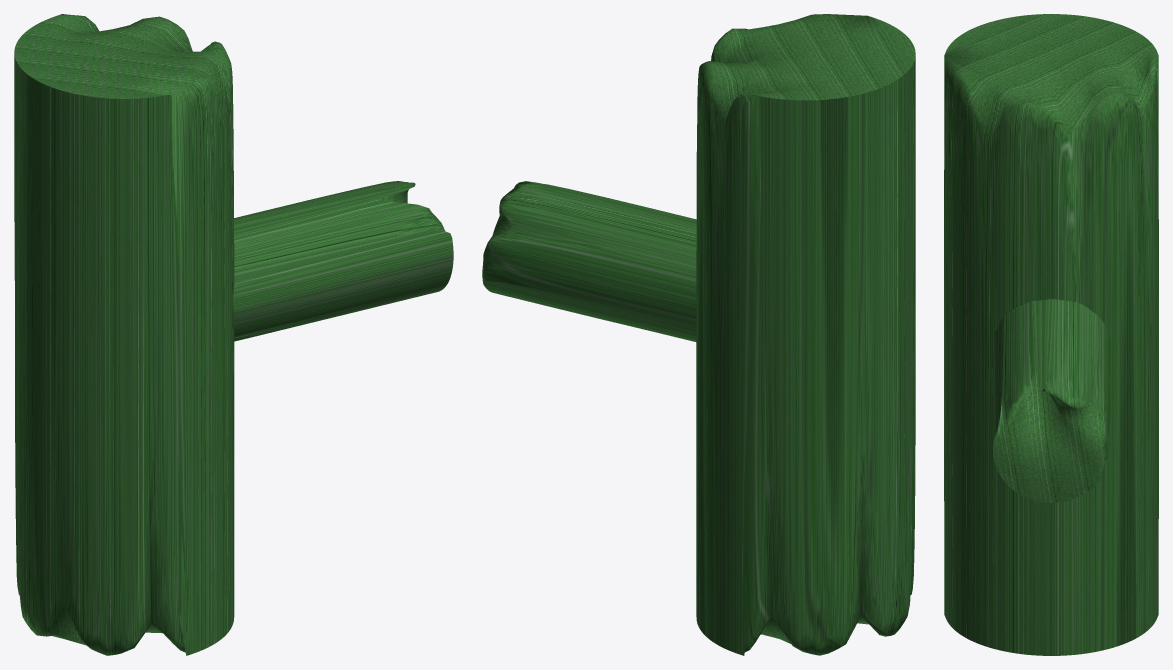
Rendered from cactus_short.glb.
3 views of the same model, side by side, from view 1: azimuth 30°, elevation 25°; view 2: azimuth 150°, elevation 25°; view 3: azimuth 270°, elevation 25° (orthographic). The views are drawn at different scales.
Parts seen in each view (by area): view 1: Cylinder; view 2: Cylinder; view 3: Cylinder.
Part boxes in pixels (x1,y1,x2,y2): Cylinder: (14, 14, 453, 655); Cylinder: (482, 14, 915, 655); Cylinder: (944, 14, 1158, 655).
Size of the model in its own units: 1.32 by 1.8 by 0.6358.
Materials: 1 (1 with a texture image).
